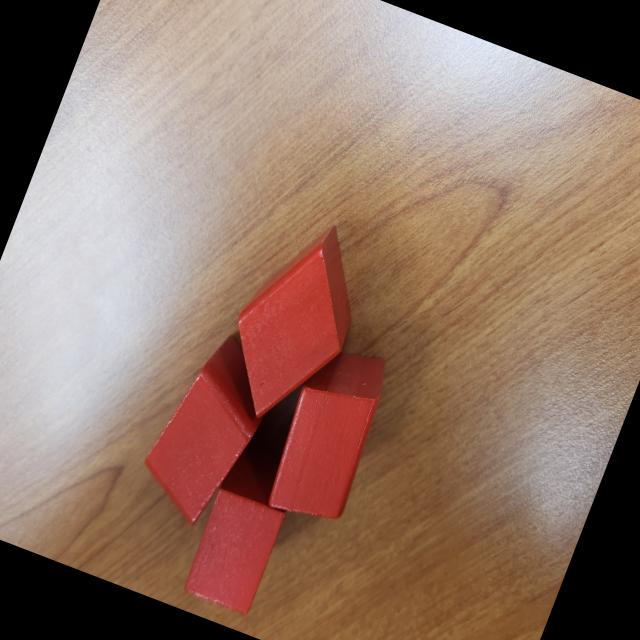red: (205, 204, 383, 441), (128, 322, 286, 538), (256, 336, 399, 534), (177, 482, 289, 620)
